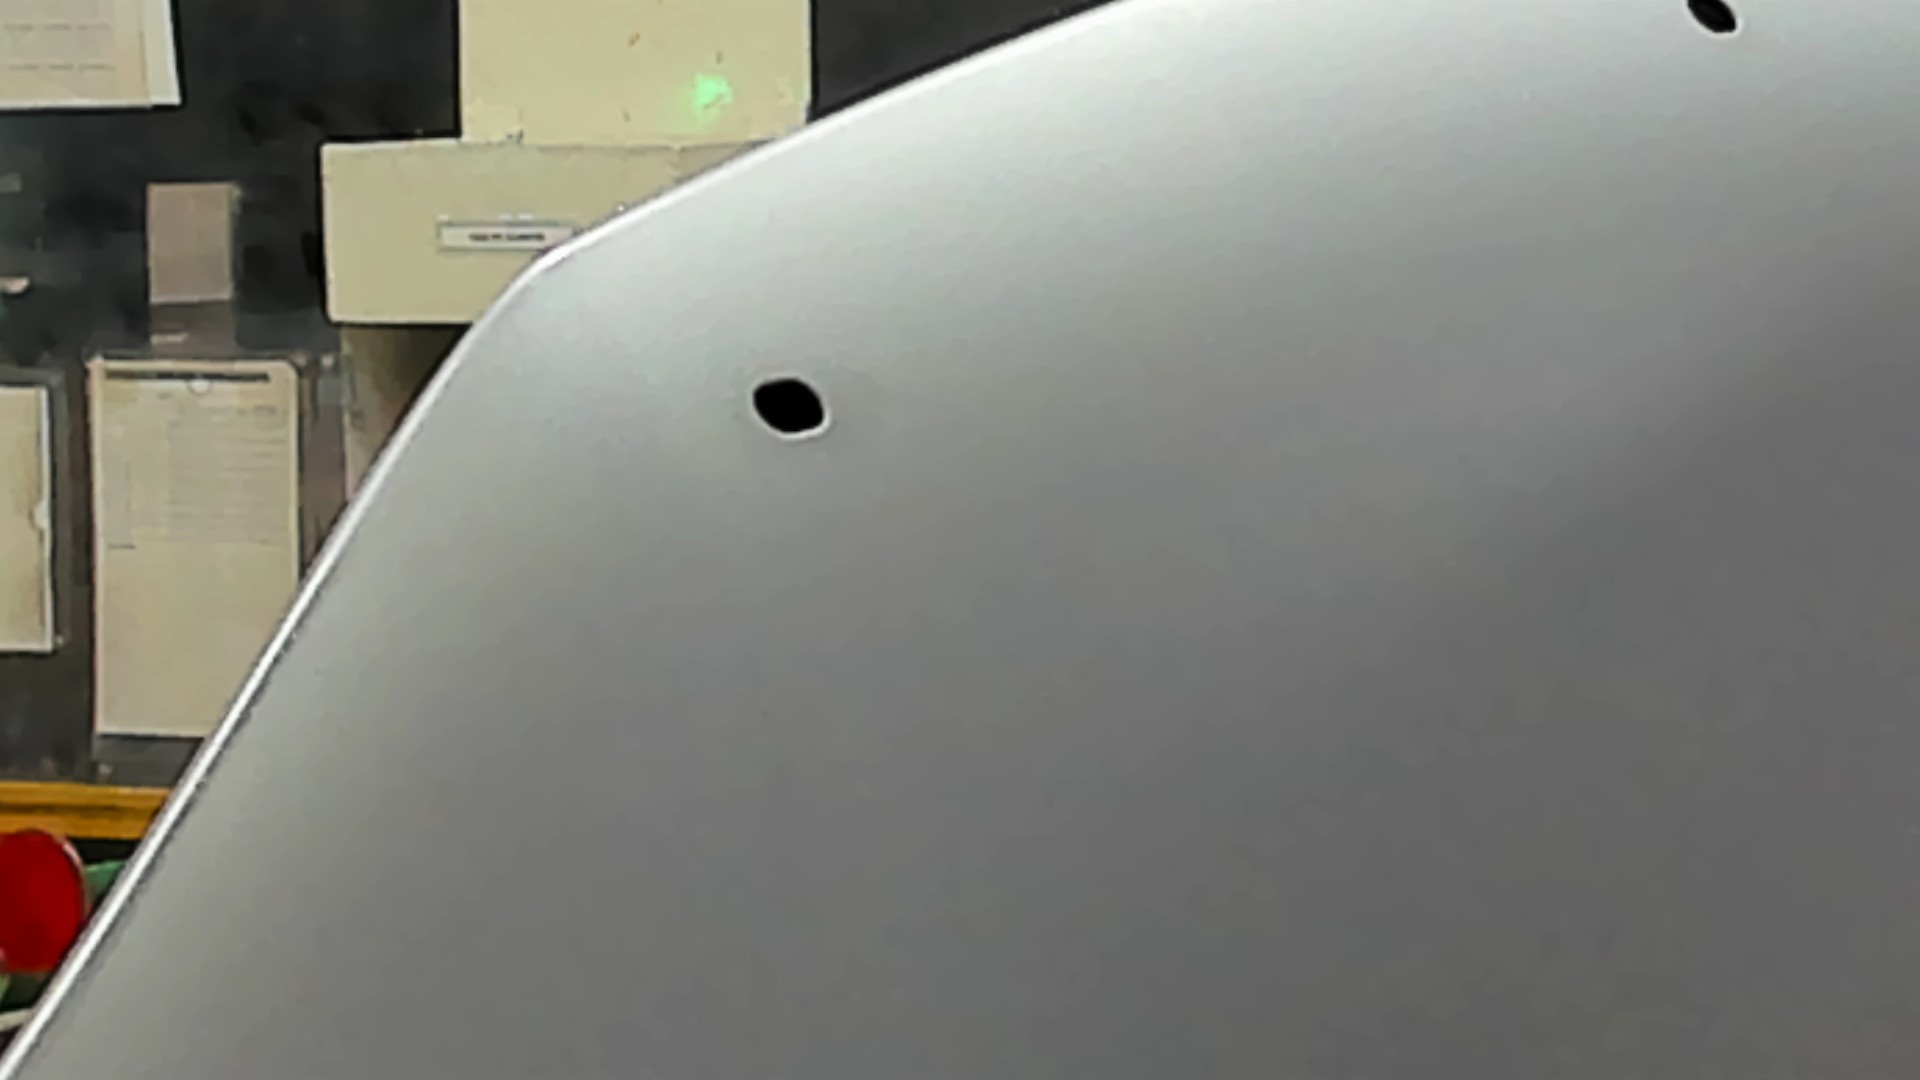chico: (741, 364, 847, 446), (1679, 1, 1742, 37)
